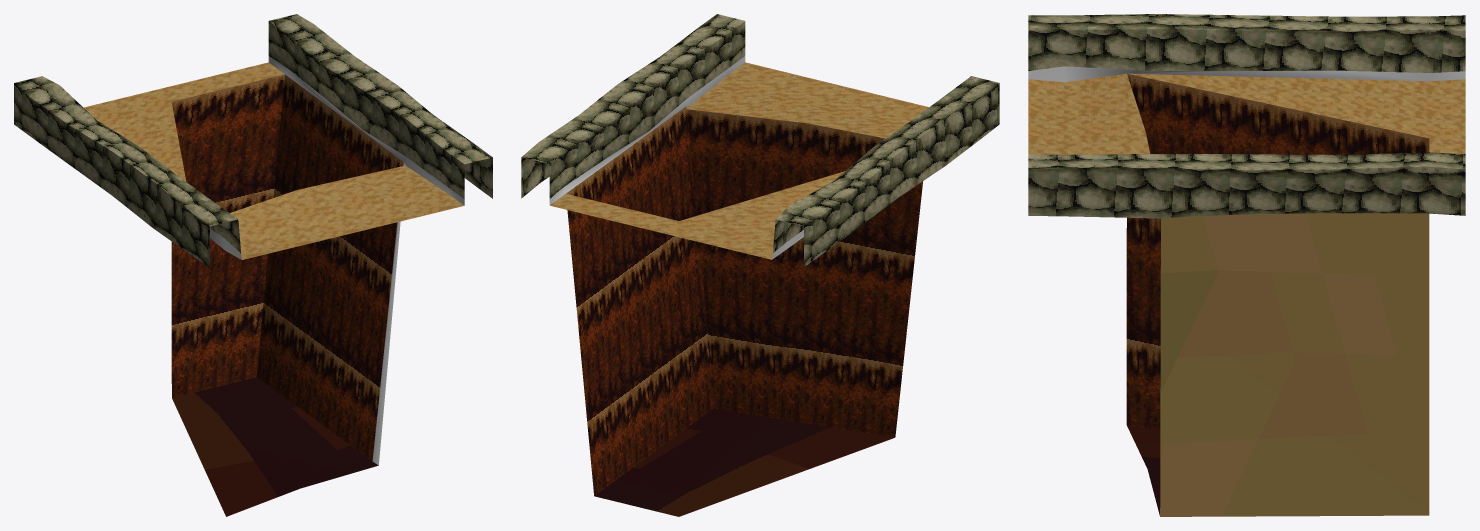
3 views of the same model, side by side, from view 1: azimuth 30°, elevation 25°; view 2: azimuth 150°, elevation 25°; view 3: azimuth 270°, elevation 25° (orthographic). The views are drawn at different scales.
Parts seen in each view (by area): view 1: tv_t2b0e0v6; view 2: tv_t2b0e0v6; view 3: tv_t2b0e0v6.
Part boxes in pixels (x1,y1,x2,y2): tv_t2b0e0v6: (14, 14, 492, 516); tv_t2b0e0v6: (521, 14, 999, 516); tv_t2b0e0v6: (1028, 14, 1465, 516).
Size of what is drawn, in the model's own units: 10.13 by 12 by 11.5.
